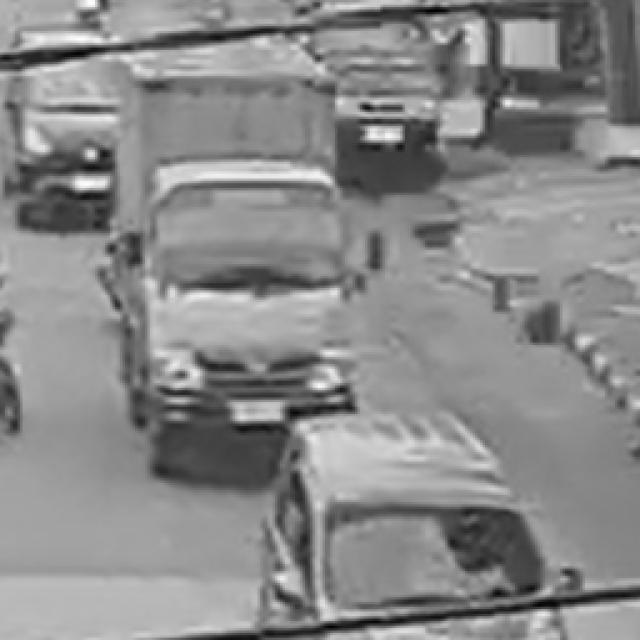Truck: (107, 38, 366, 455)
